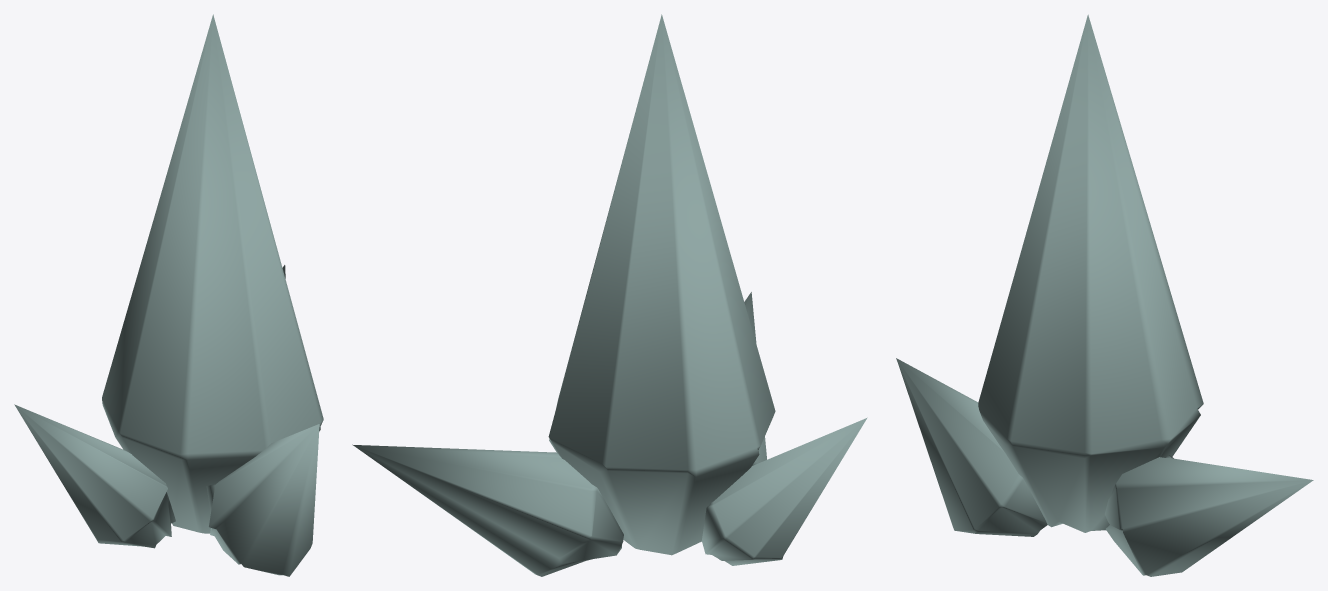
Rendered from crystal_big.fbx.
The picture shows the model from 3 angles, left to right: view 1: azimuth 30°, elevation 25°; view 2: azimuth 150°, elevation 25°; view 3: azimuth 270°, elevation 25°; orthographic projection. The views are drawn at different scales.
Visible parts, largest first — view 1: krystal5; view 2: krystal5; view 3: krystal5.
Part boxes in pixels (x1,y1,x2,y2): krystal5: (14, 14, 323, 576); krystal5: (352, 14, 867, 576); krystal5: (896, 14, 1313, 576).
Size of the model in its own units: 0.4259 by 0.5572 by 0.4034.
